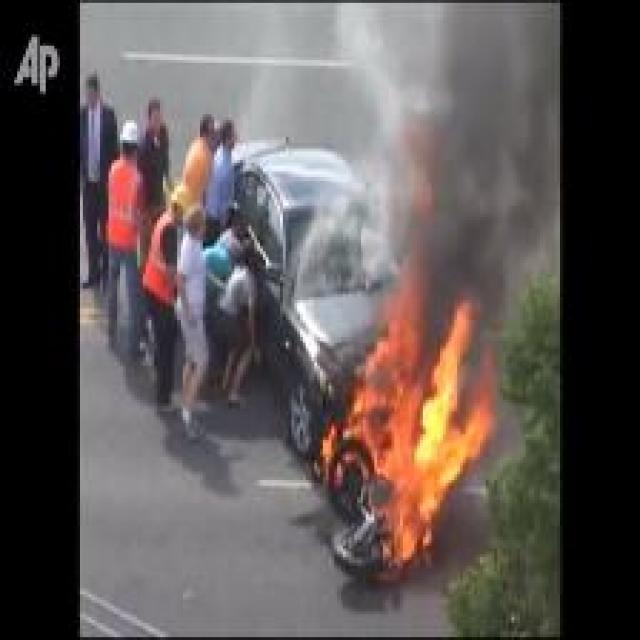Fire: (321, 173, 496, 582)
